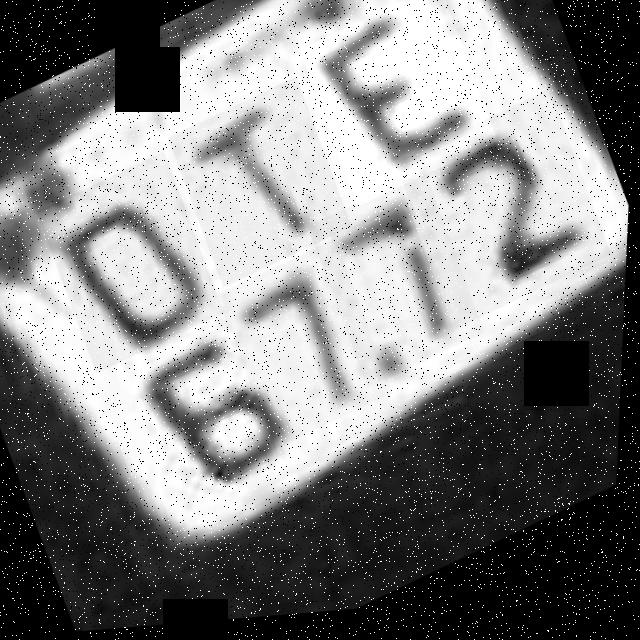2: (391, 93, 620, 341)
6: (113, 285, 324, 538)
7: (303, 173, 494, 398), (215, 240, 402, 457)
E: (294, 0, 505, 217)
O: (32, 149, 233, 380)
T: (163, 77, 359, 295)
